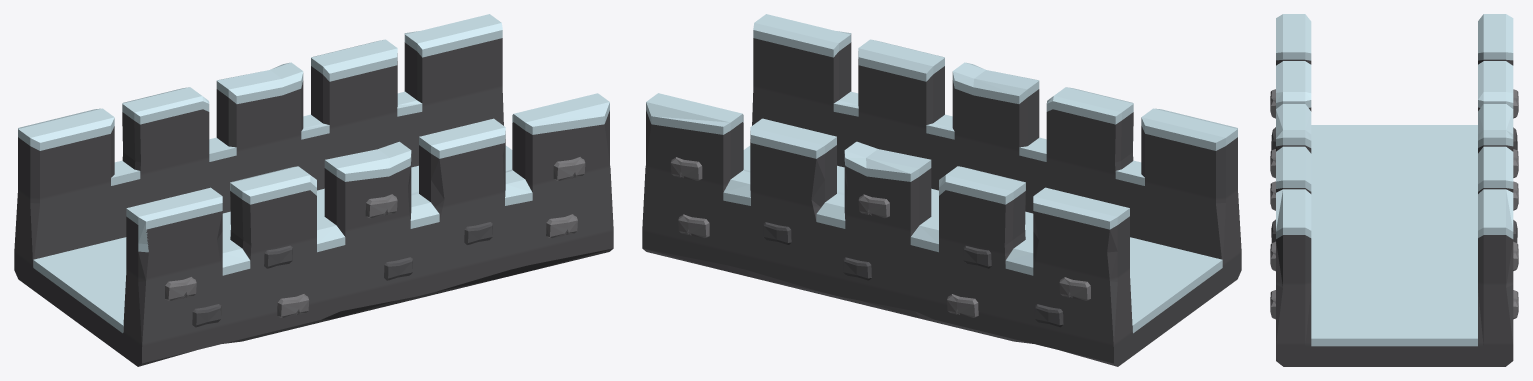
The model's file is SM_Bld_Castle_Tower_Wall_Top_01_Snow.gltf.
The picture shows the model from 3 angles, left to right: view 1: azimuth 30°, elevation 25°; view 2: azimuth 150°, elevation 25°; view 3: azimuth 270°, elevation 25°; orthographic projection. The views are drawn at different scales.
Parts seen in each view (by area): view 1: SM_Bld_Castle_Tower_Wall_Top_01_Snow; view 2: SM_Bld_Castle_Tower_Wall_Top_01_Snow; view 3: SM_Bld_Castle_Tower_Wall_Top_01_Snow.
Part boxes in pixels (box(x1,y1,x2,y2)): SM_Bld_Castle_Tower_Wall_Top_01_Snow: box(14, 14, 613, 366); SM_Bld_Castle_Tower_Wall_Top_01_Snow: box(642, 14, 1241, 366); SM_Bld_Castle_Tower_Wall_Top_01_Snow: box(1270, 14, 1518, 366).
Bounding box in the file's own units: 5 × 1.52 × 2.46.
Materials: 1 (1 with a texture image).
